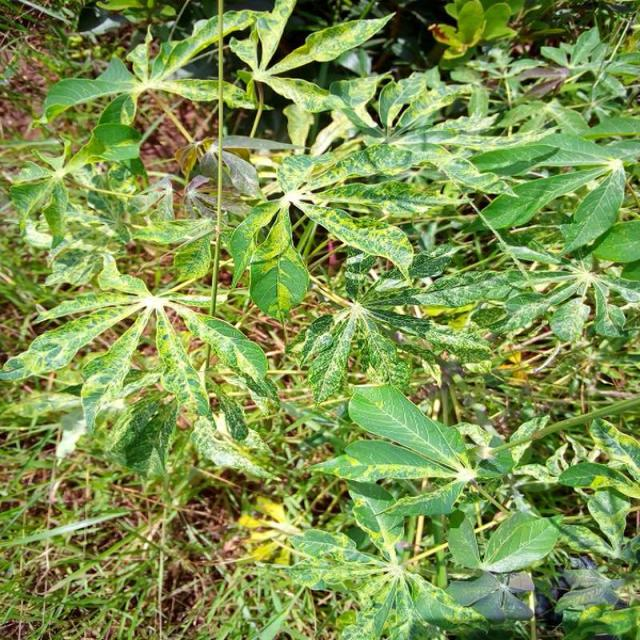cassava leaf: (348, 382, 469, 475)
